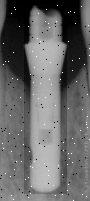BioLife: (18, 7, 69, 194)
